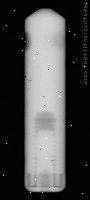Keystone Dental: (24, 7, 67, 192)
